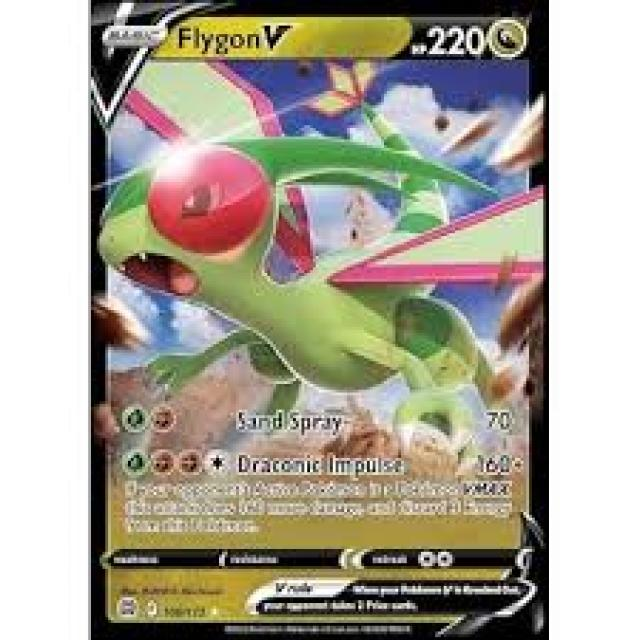flygon: (90, 56, 556, 475)
